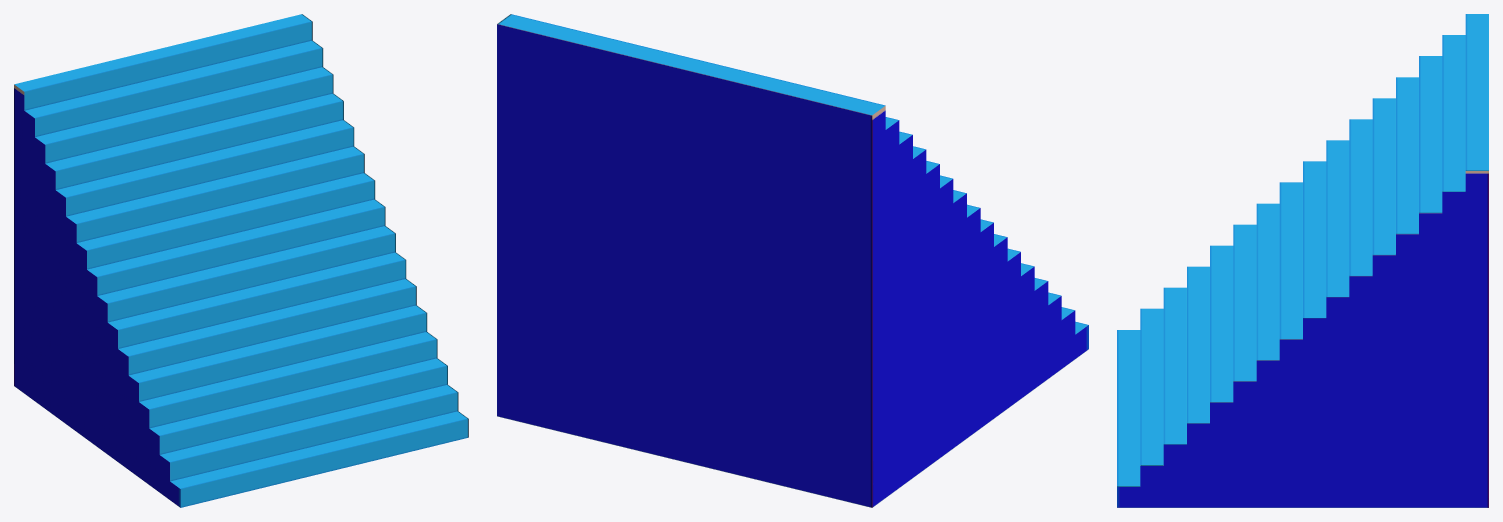
The model's file is MK_Stairs_Trim_C_Wall_E.fbx.
The picture shows the model from 3 angles, left to right: view 1: azimuth 30°, elevation 25°; view 2: azimuth 150°, elevation 25°; view 3: azimuth 270°, elevation 25°; orthographic projection. The views are drawn at different scales.
Parts seen in each view (by area): view 1: Stairs_Trim_C_Wall_E; view 2: Stairs_Trim_C_Wall_E; view 3: Stairs_Trim_C_Wall_E.
Part boxes in pixels (box(x1,y1,x2,y2)): Stairs_Trim_C_Wall_E: box(14, 14, 468, 507); Stairs_Trim_C_Wall_E: box(497, 14, 1088, 507); Stairs_Trim_C_Wall_E: box(1117, 14, 1488, 507).
Bounding box in the file's own units: 180 × 180 × 180.
1 material, 1 textured.
